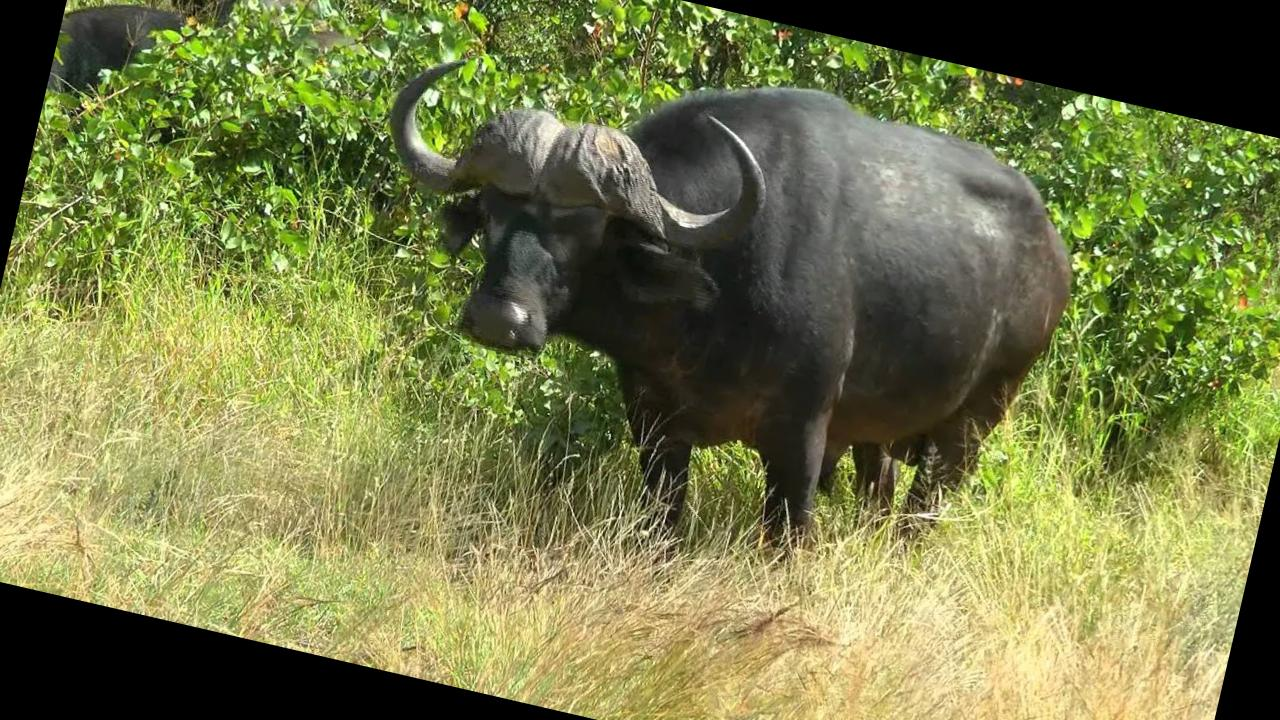Buffalo: (236, 0, 1117, 649)
